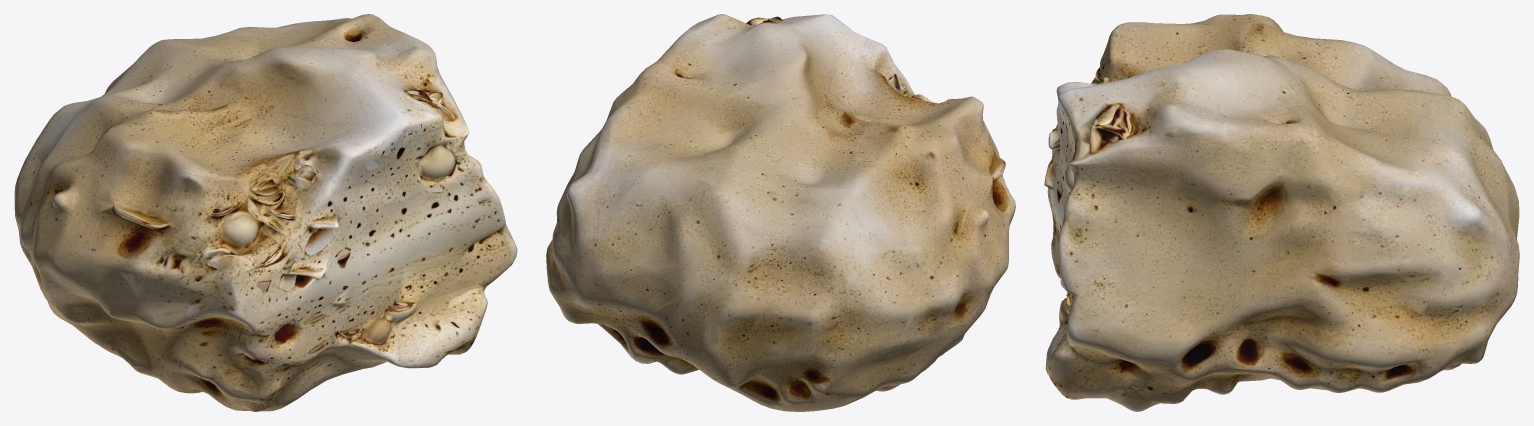
File: limestone.glb
3 views of the same model, side by side, from view 1: azimuth 30°, elevation 25°; view 2: azimuth 150°, elevation 25°; view 3: azimuth 270°, elevation 25° (orthographic). The views are drawn at different scales.
Parts seen in each view (by area): view 1: node_0; view 2: node_0; view 3: node_0.
Boxes of the visible parts, box(x1,y1,x2,y2) form: node_0: box(14, 14, 517, 411); node_0: box(546, 14, 1015, 411); node_0: box(1044, 14, 1519, 411).
Size of the model in its own units: 1.01 by 0.7364 by 0.9164.
Materials: 1 (1 with a texture image).
